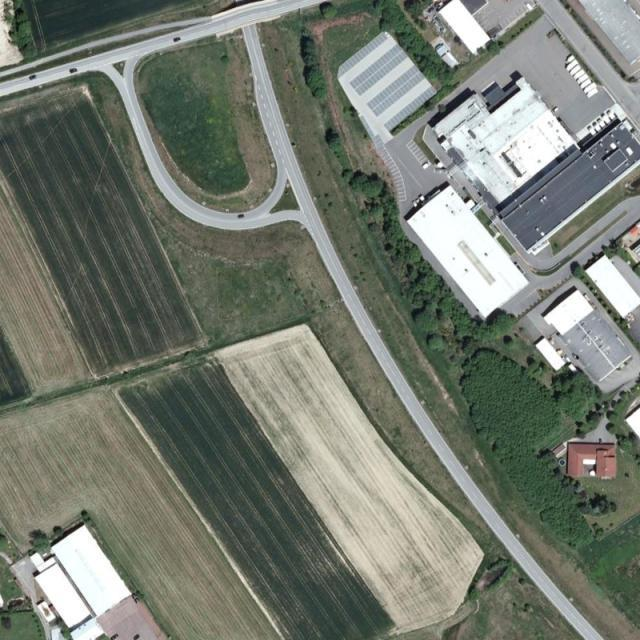vehicle: (110, 634, 119, 640), (133, 634, 141, 640), (30, 74, 38, 80), (70, 68, 78, 74), (174, 37, 182, 43), (237, 214, 245, 218)
